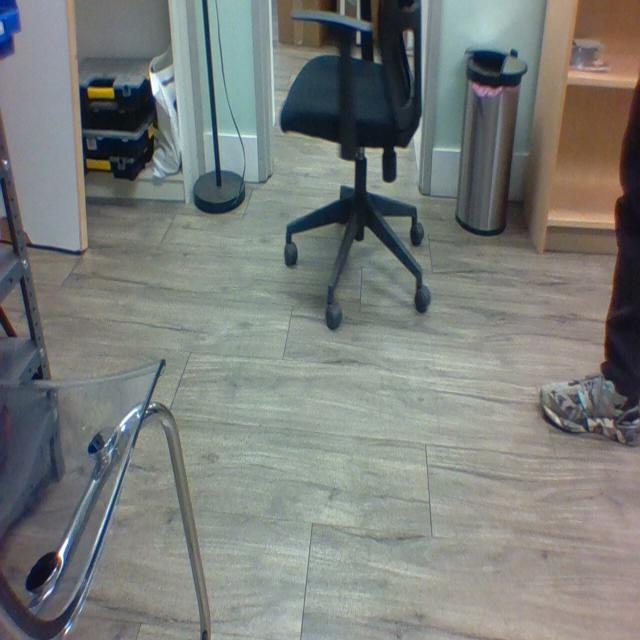black-chair: (280, 11, 440, 330)
